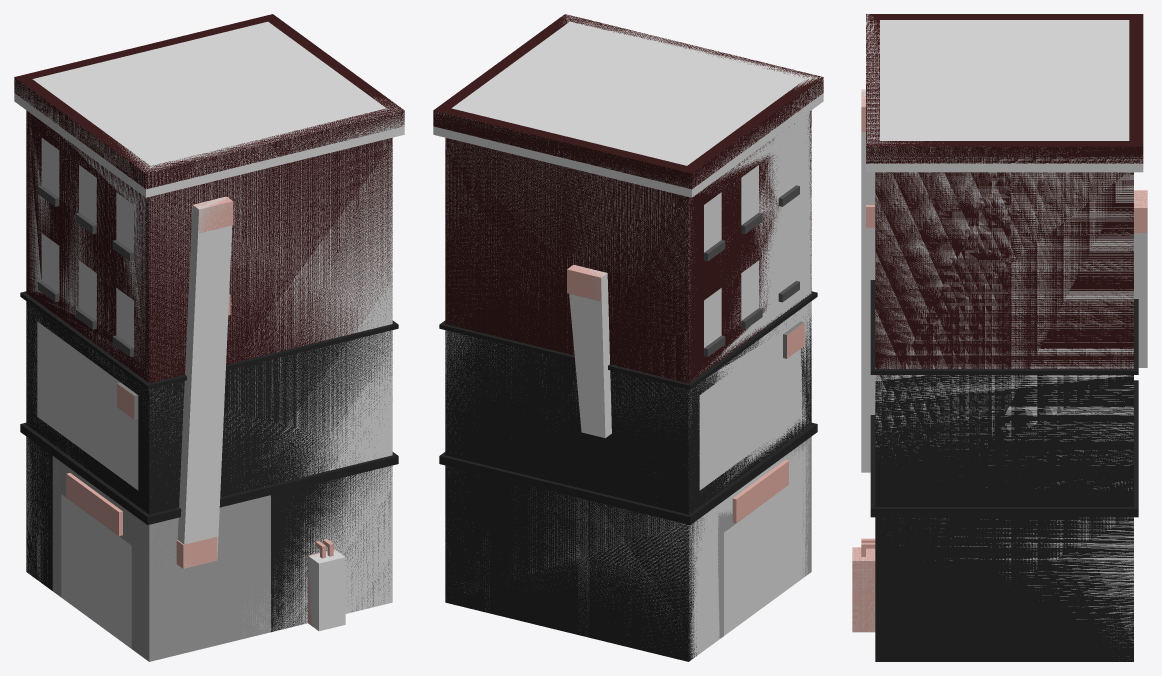
Rendered from Building_B2_Home07_1_01.FBX.
The picture shows the model from 3 angles, left to right: view 1: azimuth 30°, elevation 25°; view 2: azimuth 150°, elevation 25°; view 3: azimuth 270°, elevation 25°; orthographic projection. The views are drawn at different scales.
Parts seen in each view (by area): view 1: Building_B2_Home07_Live_1_01, Building_B2_Home07_Damage_1_01; view 2: Building_B2_Home07_Live_1_01, Building_B2_Home07_Damage_1_01; view 3: Building_B2_Home07_Live_1_01, Building_B2_Home07_Damage_1_01.
Boxes of the visible parts, x1,y1,x2,y2 form: Building_B2_Home07_Live_1_01: [14, 14, 404, 661]; Building_B2_Home07_Damage_1_01: [14, 21, 404, 648]; Building_B2_Home07_Live_1_01: [433, 14, 823, 661]; Building_B2_Home07_Damage_1_01: [433, 14, 823, 659]; Building_B2_Home07_Live_1_01: [852, 14, 1147, 661]; Building_B2_Home07_Damage_1_01: [852, 14, 1147, 647].
Bounding box in the file's own units: 8.16 × 14.88 × 7.68.
